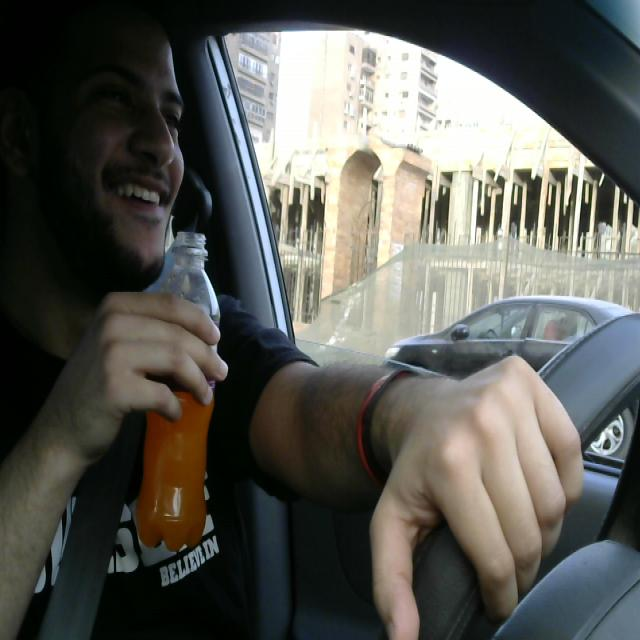drinking: (135, 225, 218, 548)
